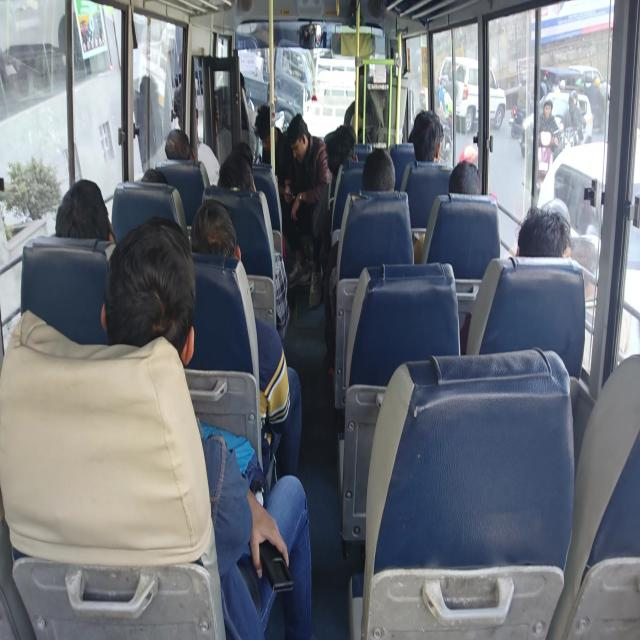person: (101, 216, 312, 638), (189, 198, 302, 481), (324, 148, 396, 373), (217, 148, 290, 342), (281, 112, 330, 306), (308, 124, 356, 308), (516, 205, 596, 302), (172, 80, 220, 186), (55, 178, 115, 244), (254, 103, 294, 195), (516, 206, 572, 258), (408, 109, 445, 164), (537, 99, 559, 186), (324, 124, 356, 177), (217, 150, 256, 192), (361, 148, 395, 192), (560, 90, 586, 145), (448, 159, 482, 195), (164, 128, 192, 160), (458, 144, 478, 166)
